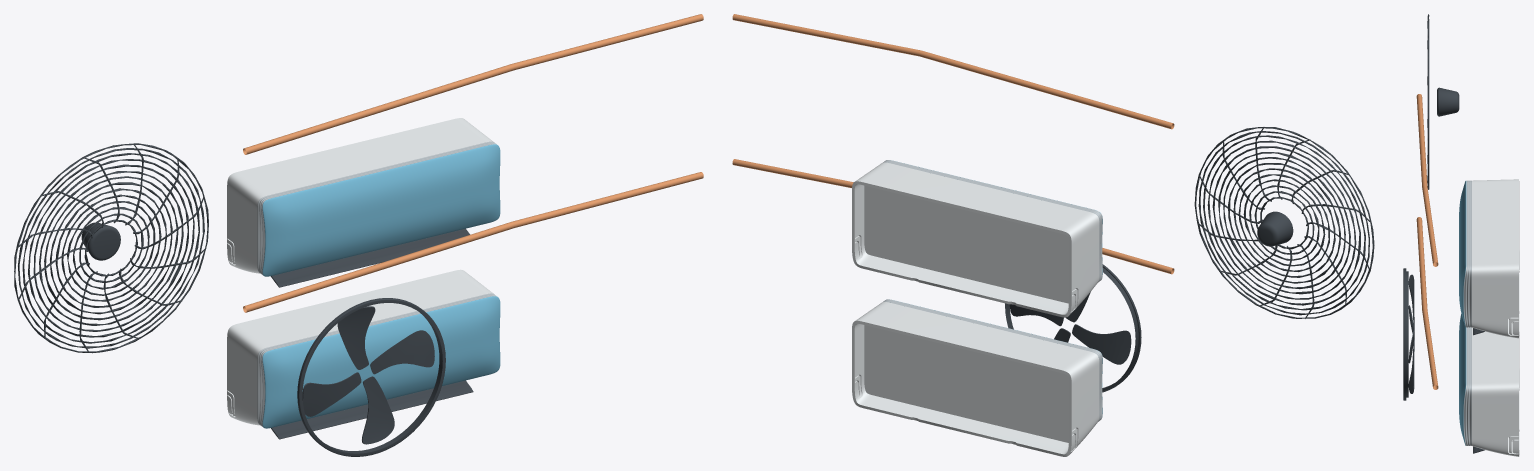
File: multi-split-system.glb
The picture shows the model from 3 angles, left to right: view 1: azimuth 30°, elevation 25°; view 2: azimuth 150°, elevation 25°; view 3: azimuth 270°, elevation 25°; orthographic projection. The views are drawn at different scales.
Visible parts, largest first — view 1: FaceCover.002, FaceCover.001, Cylinder.001, Body.002, Body.001, Plane, pipeRoute1, pipeRoute2, Cylinder.002, Direction.002, BezierCurve.001, Direction.001 (+3 smaller); view 2: Body.002, Body.001, Cylinder.001, pipeRoute2, Plane, BezierCurve.001, pipeRoute1, MetalDetail.001, MetalDetail.002, Cylinder.002, Cylinder; view 3: Body.002, Body.001, pipeRoute1, pipeRoute2, MetalDetail.002, FaceCover.002, MetalDetail.001, FaceCover.001, Cylinder.002, Plane, Cylinder, Cylinder.001 (+1 smaller).
Part boxes in pixels (<box>): FaceCover.002: <box>262,144,500,276</box>; FaceCover.001: <box>262,296,500,428</box>; Cylinder.001: <box>14,143,208,353</box>; Body.002: <box>227,118,493,273</box>; Body.001: <box>227,269,493,425</box>; Plane: <box>302,306,434,444</box>; pipeRoute1: <box>243,172,703,312</box>; pipeRoute2: <box>243,14,703,154</box>; Cylinder.002: <box>297,298,445,456</box>; Direction.002: <box>271,228,469,287</box>; BezierCurve.001: <box>17,144,205,352</box>; Direction.001: <box>271,380,473,439</box>; Body.002: <box>852,162,1099,317</box>; Body.001: <box>852,302,1099,456</box>; Cylinder.001: <box>1194,127,1374,318</box>; pipeRoute2: <box>732,14,1174,129</box>; Plane: <box>1009,292,1131,364</box>; BezierCurve.001: <box>1198,128,1369,318</box>; pipeRoute1: <box>732,159,1174,274</box>; MetalDetail.001: <box>883,299,1102,421</box>; MetalDetail.002: <box>883,160,1102,282</box>; Cylinder.002: <box>1005,264,1141,392</box>; Cylinder: <box>1257,211,1293,246</box>; Body.002: <box>1472,179,1519,338</box>; Body.001: <box>1472,313,1519,456</box>; pipeRoute1: <box>1416,217,1438,389</box>; pipeRoute2: <box>1416,94,1438,266</box>; MetalDetail.002: <box>1463,180,1471,327</box>; FaceCover.002: <box>1459,181,1466,327</box>; MetalDetail.001: <box>1463,327,1471,445</box>; FaceCover.001: <box>1459,314,1466,445</box>; Cylinder.002: <box>1403,268,1408,400</box>; Plane: <box>1408,274,1414,393</box>; Cylinder: <box>1437,87,1459,116</box>; Cylinder.001: <box>1428,14,1429,189</box>.
Bounding box in the file's own units: 3.25 × 1.62 × 0.6046.
